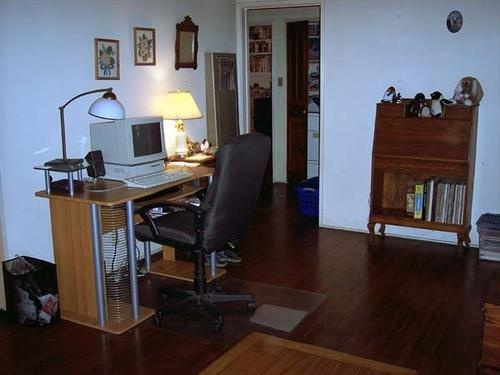chair: (134, 132, 274, 337)
